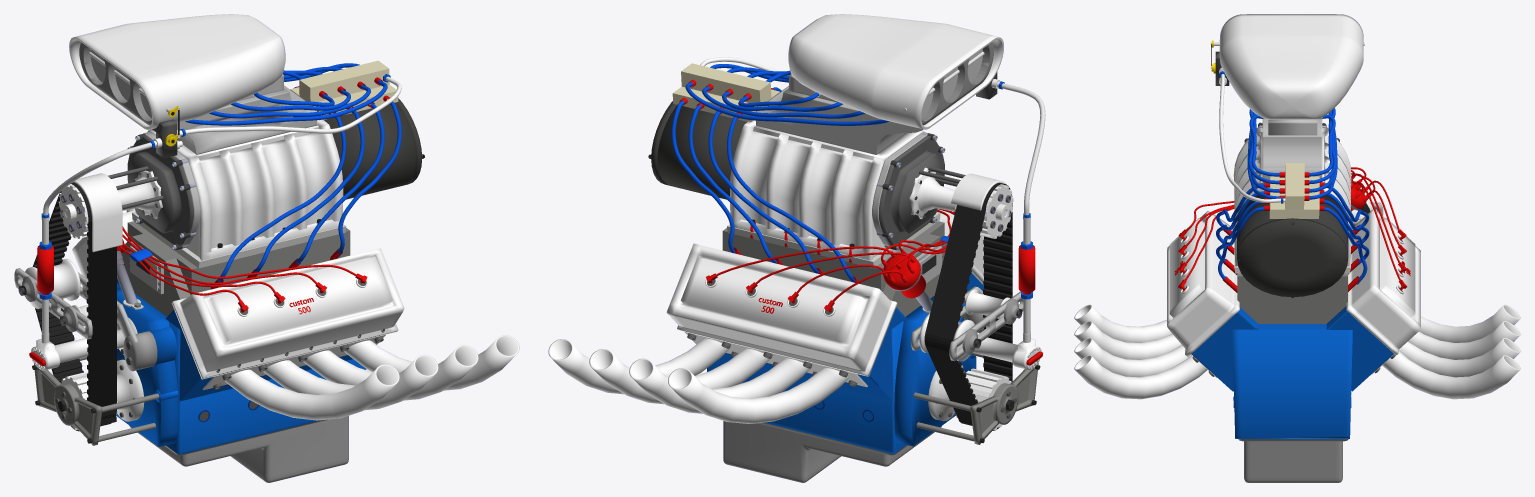
File: engine_full.glb
3 views of the same model, side by side, from view 1: azimuth 30°, elevation 25°; view 2: azimuth 150°, elevation 25°; view 3: azimuth 270°, elevation 25° (orthographic). The views are drawn at different scales.
Visible parts, largest first — view 1: ensemble_moteur, bloc_moteur, cache_culbuteurs, collecteurs_echappement, cables_allumage, reservoir, filtre_a_air, cache_distribution, durites, arbre_a_cames; view 2: ensemble_moteur, bloc_moteur, cache_culbuteurs, collecteurs_echappement, cables_allumage, reservoir, filtre_a_air, cache_distribution, BezierCurve, arbre_a_cames, durites; view 3: ensemble_moteur, collecteurs_echappement, bloc_moteur, cache_culbuteurs, filtre_a_air, cables_allumage, reservoir, cache_distribution, durites, BezierCurve.
Boxes of the visible parts, <box> form: ensemble_moteur: <box>14,60,424,454</box>; bloc_moteur: <box>25,119,404,430</box>; cache_culbuteurs: <box>69,14,285,149</box>; collecteurs_echappement: <box>126,208,519,420</box>; cables_allumage: <box>185,63,401,282</box>; reservoir: <box>129,415,348,482</box>; filtre_a_air: <box>324,98,422,199</box>; cache_distribution: <box>150,85,316,154</box>; durites: <box>118,226,356,301</box>; arbre_a_cames: <box>89,49,170,118</box>; ensemble_moteur: <box>648,63,1045,454</box>; bloc_moteur: <box>666,120,1041,429</box>; cache_culbuteurs: <box>788,14,1003,129</box>; collecteurs_echappement: <box>548,209,939,423</box>; cables_allumage: <box>671,57,889,282</box>; reservoir: <box>723,421,941,482</box>; filtre_a_air: <box>651,101,746,199</box>; cache_distribution: <box>756,86,922,154</box>; BezierCurve: <box>716,246,909,301</box>; arbre_a_cames: <box>903,49,984,118</box>; durites: <box>881,209,954,279</box>; ensemble_moteur: <box>1178,40,1407,438</box>; collecteurs_echappement: <box>1074,304,1520,399</box>; bloc_moteur: <box>1167,127,1420,356</box>; cache_culbuteurs: <box>1210,14,1363,119</box>; filtre_a_air: <box>1237,195,1348,297</box>; cables_allumage: <box>1216,74,1369,284</box>; reservoir: <box>1238,439,1348,482</box>; cache_distribution: <box>1262,119,1322,182</box>; durites: <box>1185,167,1375,280</box>; BezierCurve: <box>1353,173,1400,280</box>.
Bounding box in the file's own units: 8.49 × 9.85 × 10.5.
